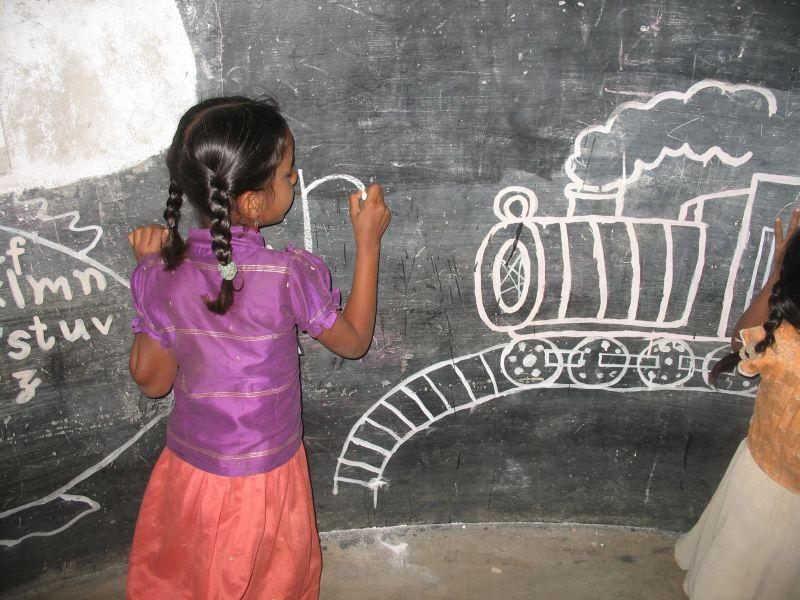person: (123, 96, 390, 600)
